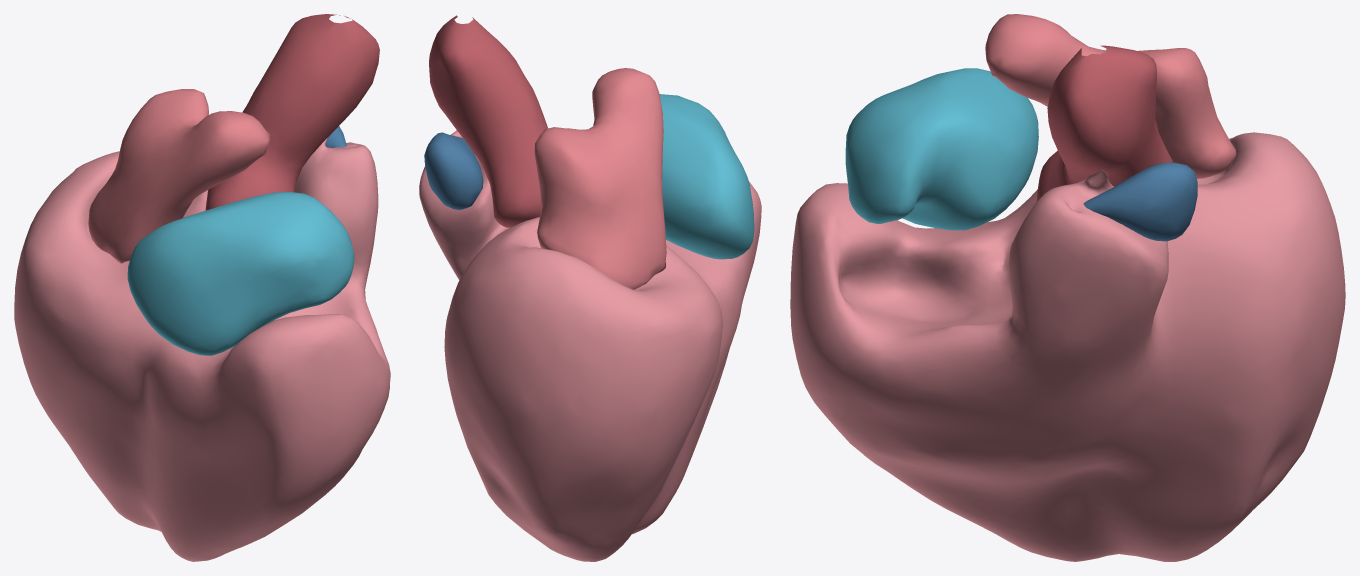
The model's file is frame_73.glb.
The picture shows the model from 3 angles, left to right: view 1: azimuth 30°, elevation 25°; view 2: azimuth 150°, elevation 25°; view 3: azimuth 270°, elevation 25°; orthographic projection. The views are drawn at different scales.
Parts seen in each view (by area): view 1: Renderer Node; view 2: Renderer Node; view 3: Renderer Node.
Part boxes in pixels (x1,y1,x2,y2): Renderer Node: (14, 14, 390, 561); Renderer Node: (419, 15, 761, 561); Renderer Node: (790, 14, 1345, 561).
Bounding box in the file's own units: 107 × 164 × 137.
